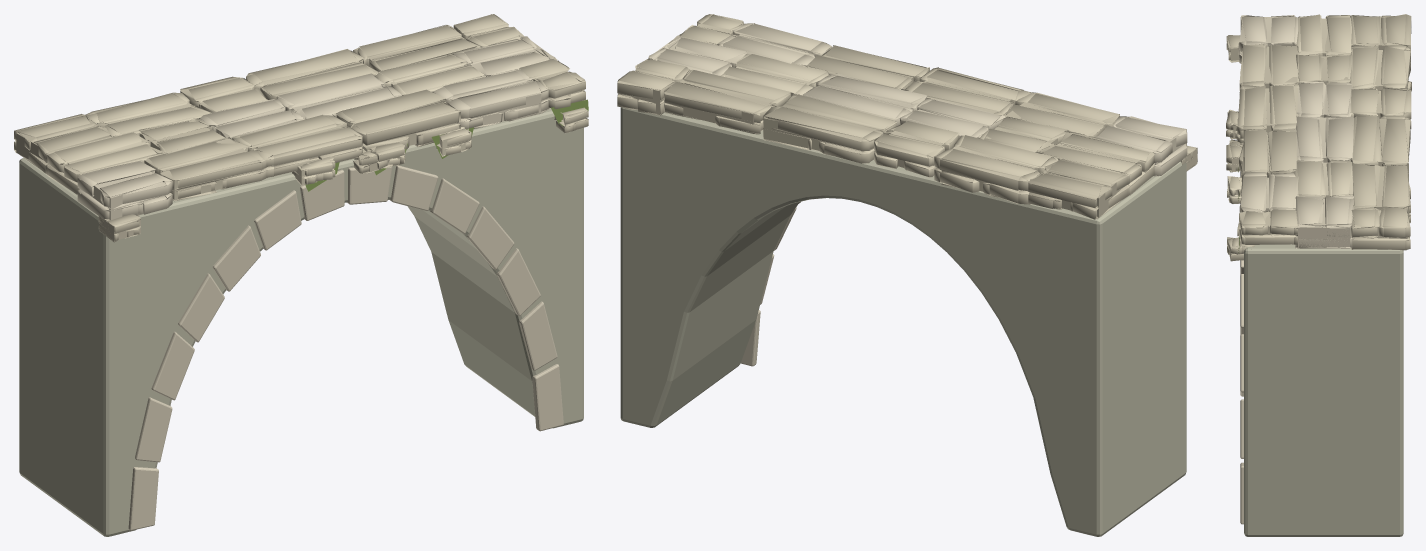
File: bridge-07.glb
3 views of the same model, side by side, from view 1: azimuth 30°, elevation 25°; view 2: azimuth 150°, elevation 25°; view 3: azimuth 270°, elevation 25° (orthographic). The views are drawn at different scales.
Parts seen in each view (by area): view 1: Continuous arch foundation.006, CC0 worn paving.084, CC0 worn paving.082, CC0 worn paving.083, CC0 worn paving.085, CC0 worn paving.081, CC0 worn paving.097, CC0 worn paving.087, CC0 worn paving.098, CC0 worn paving.090, CC0 worn paving.095, CC0 worn paving.094 (+24 smaller); view 2: Continuous arch foundation.006, CC0 worn paving.097, CC0 worn paving.095, CC0 worn paving.098, CC0 worn paving.094, CC0 worn paving.090, CC0 worn paving.096, CC0 worn paving.087, CC0 worn paving.083, CC0 worn paving.084, CC0 worn paving.082, CC0 worn paving.081 (+7 smaller); view 3: Continuous arch foundation.006, CC0 worn paving.097, CC0 worn paving.083, CC0 worn paving.090, CC0 worn paving.095, CC0 worn paving.098, CC0 worn paving.084, CC0 worn paving.099, CC0 worn paving.082, CC0 worn paving.087, CC0 worn paving.085, CC0 worn paving.091 (+16 smaller).
Part boxes in pixels (x1,y1,x2,y2): Continuous arch foundation.006: (19,108,583,536); CC0 worn paving.084: (335,89,460,151); CC0 worn paving.082: (144,137,268,201); CC0 worn paving.083: (232,114,362,177); CC0 worn paving.085: (432,69,549,128); CC0 worn paving.081: (77,160,172,220); CC0 worn paving.097: (246,49,378,99); CC0 worn paving.087: (47,131,164,194); CC0 worn paving.098: (353,25,482,71); CC0 worn paving.090: (276,73,401,120); CC0 worn paving.095: (85,92,211,136); CC0 worn paving.094: (14,114,113,175); Continuous arch foundation.006: (620,107,1186,536); CC0 worn paving.097: (763,94,896,163); CC0 worn paving.095: (934,135,1058,204); CC0 worn paving.098: (664,69,790,134); CC0 worn paving.094: (1028,158,1130,219); CC0 worn paving.090: (803,73,927,125); CC0 worn paving.096: (874,121,958,177); CC0 worn paving.087: (1041,132,1154,195); CC0 worn paving.083: (905,67,1031,115); CC0 worn paving.084: (806,45,929,89); CC0 worn paving.082: (1005,92,1119,138); CC0 worn paving.081: (1094,116,1187,176); Continuous arch foundation.006: (1244,244,1403,536); CC0 worn paving.097: (1350,115,1410,181); CC0 worn paving.083: (1237,84,1298,142); CC0 worn paving.090: (1294,116,1353,162); CC0 worn paving.095: (1349,45,1411,91); CC0 worn paving.098: (1352,163,1410,223); CC0 worn paving.084: (1239,128,1298,180); CC0 worn paving.099: (1351,207,1410,250); CC0 worn paving.082: (1239,44,1300,94); CC0 worn paving.087: (1296,14,1351,56); CC0 worn paving.085: (1239,172,1298,212); CC0 worn paving.091: (1293,159,1353,198).
Size of the model in its own units: 7 by 4.78 by 2.58.
